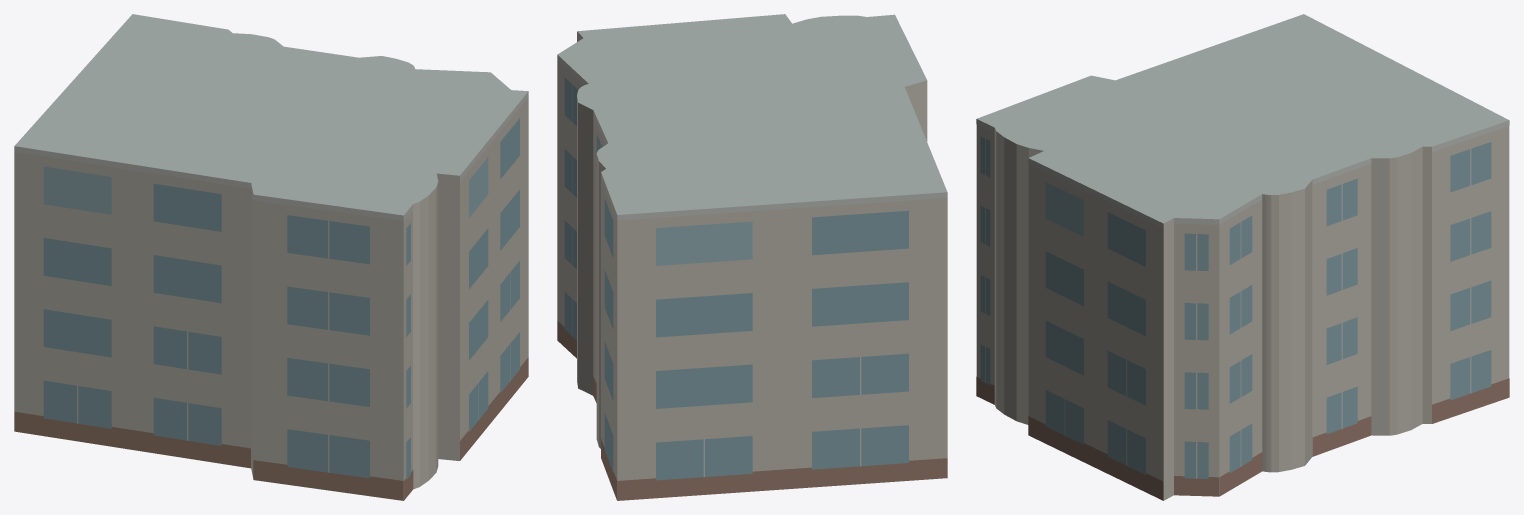
The model's file is survey-upis-32687957.glb.
3 views of the same model, side by side, from view 1: azimuth 30°, elevation 25°; view 2: azimuth 150°, elevation 25°; view 3: azimuth 270°, elevation 25° (orthographic). The views are drawn at different scales.
Parts seen in each view (by area): view 1: survey-upis-32687957.tmp; view 2: survey-upis-32687957.tmp; view 3: survey-upis-32687957.tmp.
Part boxes in pixels (x1=…): survey-upis-32687957.tmp: x1=14, y1=14, x2=528, y2=500; survey-upis-32687957.tmp: x1=557, y1=14, x2=947, y2=500; survey-upis-32687957.tmp: x1=976, y1=14, x2=1509, y2=500.
Size of the model in its own units: 19.95 by 12.3 by 21.43.
